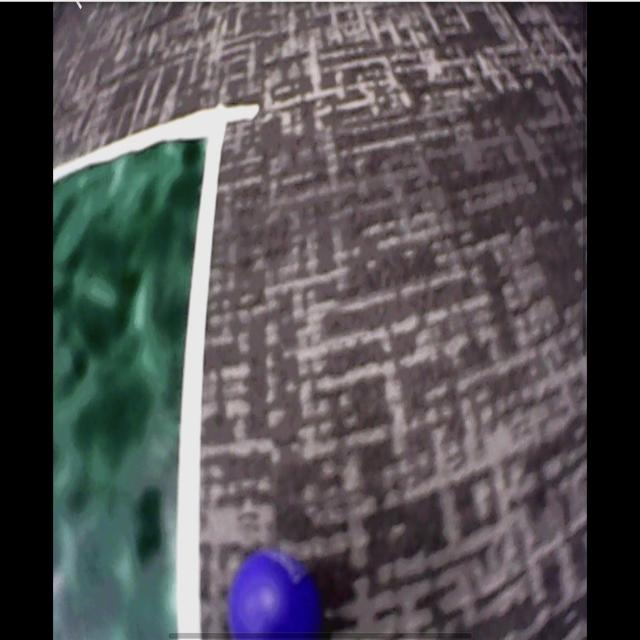ball: (228, 553, 323, 640)
